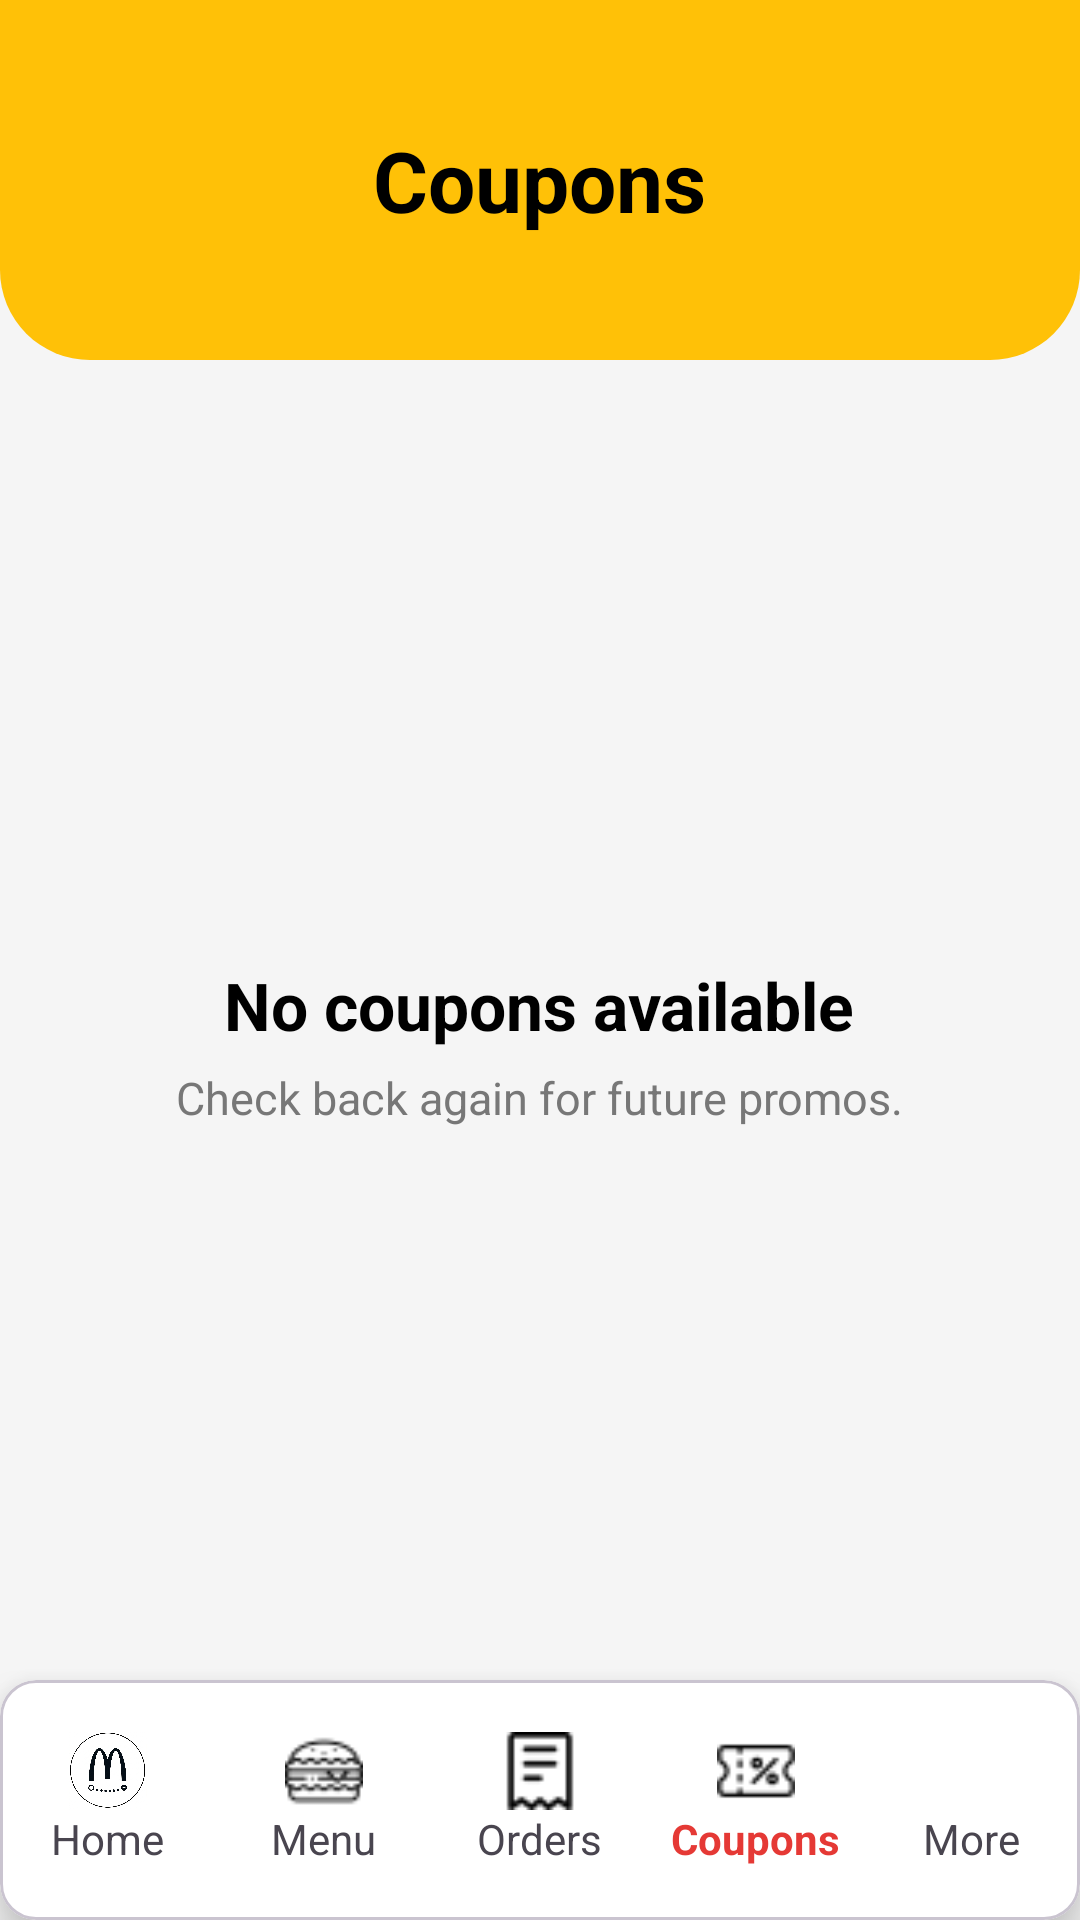

Icon click points for this 1080*1920 phone screenshot, format (x,y):
burger: (324,1771)
